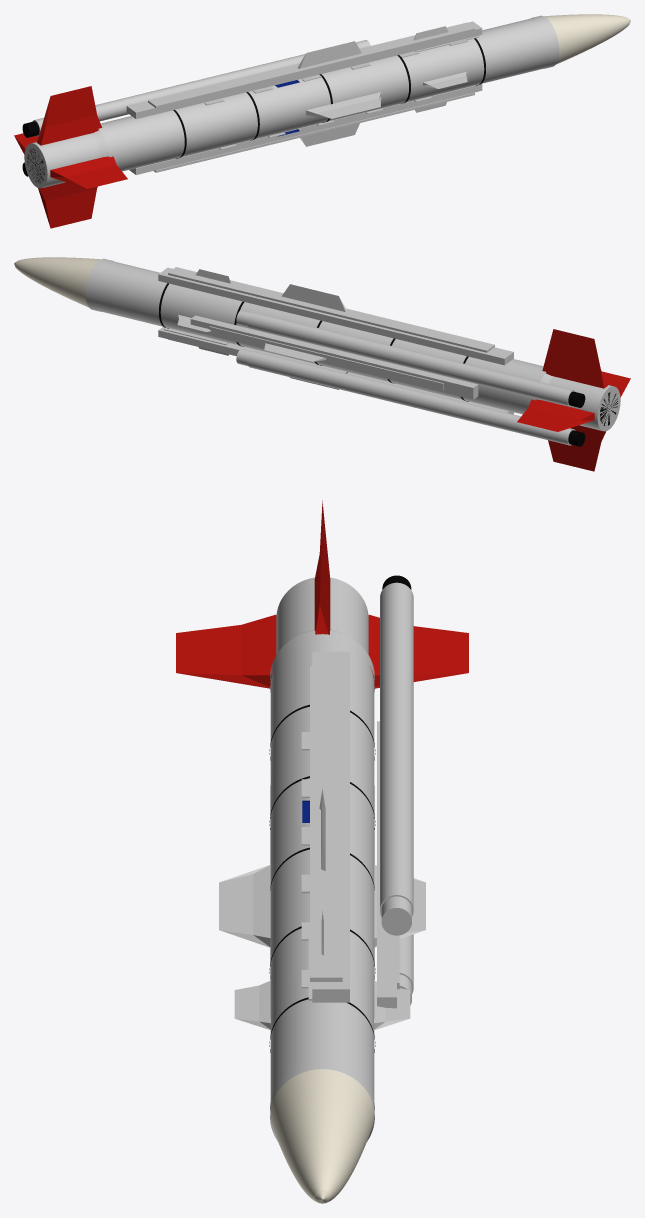
Rendered from rocn_hf-3.obj.
The picture shows the model from 3 angles, top to bottom: view 1: azimuth 30°, elevation 25°; view 2: azimuth 150°, elevation 25°; view 3: azimuth 270°, elevation 25°; orthographic projection. The views are drawn at different scales.
Parts seen in each view (by area): view 1: main_body_highpoly, starboard_channel_lip_upper, starboard_long_dark_ramjet_channel, tail_fin_starboard_red, smooth_white_ogive_nose, aft_booster_case, port_long_dark_ramjet_channel, starboard_side_booster_highpoly, tail_fin_port_red, tail_fin_top_red, mid_fin_top_gray, port_channel_lip_upper (+5 smaller); view 2: main_body_highpoly, starboard_side_booster_highpoly, port_side_booster_highpoly, starboard_long_dark_ramjet_channel, lower_center_body_fairing, starboard_channel_lip_upper, tail_fin_starboard_red, smooth_white_ogive_nose, aft_booster_case, lower_dark_slot, tail_fin_bottom_red, port_long_dark_ramjet_channel (+5 smaller); view 3: main_body_highpoly, starboard_side_booster_highpoly, starboard_channel_lip_upper, smooth_white_ogive_nose, tail_fin_top_red, aft_booster_case, starboard_long_dark_ramjet_channel, tail_fin_bottom_red, mid_fin_top_gray, lower_center_body_fairing, tail_fin_starboard_red, forward_canard_top (+5 smaller).
Part boxes in pixels (x1,y1,x2,y2): main_body_highpoly: [91, 17, 551, 171]; starboard_channel_lip_upper: [148, 22, 474, 108]; starboard_long_dark_ramjet_channel: [126, 21, 482, 118]; tail_fin_starboard_red: [37, 86, 101, 145]; smooth_white_ogive_nose: [544, 14, 630, 64]; aft_booster_case: [24, 133, 100, 188]; port_long_dark_ramjet_channel: [129, 84, 482, 174]; starboard_side_booster_highpoly: [32, 43, 358, 136]; tail_fin_port_red: [38, 182, 97, 228]; tail_fin_top_red: [50, 156, 127, 188]; mid_fin_top_gray: [305, 92, 381, 118]; port_channel_lip_upper: [154, 92, 474, 172]; main_body_highpoly: [93, 260, 553, 414]; starboard_side_booster_highpoly: [247, 312, 575, 406]; port_side_booster_highpoly: [247, 351, 575, 445]; starboard_long_dark_ramjet_channel: [158, 267, 513, 365]; lower_center_body_fairing: [190, 315, 478, 399]; starboard_channel_lip_upper: [168, 267, 494, 352]; tail_fin_starboard_red: [542, 329, 607, 388]; smooth_white_ogive_nose: [14, 257, 100, 307]; aft_booster_case: [544, 376, 620, 431]; lower_dark_slot: [209, 326, 443, 390]; tail_fin_bottom_red: [517, 399, 594, 431]; port_long_dark_ramjet_channel: [158, 327, 513, 414]; main_body_highpoly: [270, 630, 374, 1110]; starboard_side_booster_highpoly: [380, 582, 413, 916]; starboard_channel_lip_upper: [310, 666, 342, 981]; smooth_white_ogive_nose: [270, 1069, 374, 1203]; tail_fin_top_red: [176, 614, 276, 688]; aft_booster_case: [276, 577, 368, 654]; starboard_long_dark_ramjet_channel: [312, 651, 349, 1002]; tail_fin_bottom_red: [368, 614, 468, 688]; mid_fin_top_gray: [219, 865, 270, 947]; lower_center_body_fairing: [377, 721, 396, 1008]; tail_fin_starboard_red: [314, 500, 330, 634]; forward_canard_top: [234, 980, 270, 1029].
Size of the model in its own units: 6.1 by 1.3 by 1.3.
